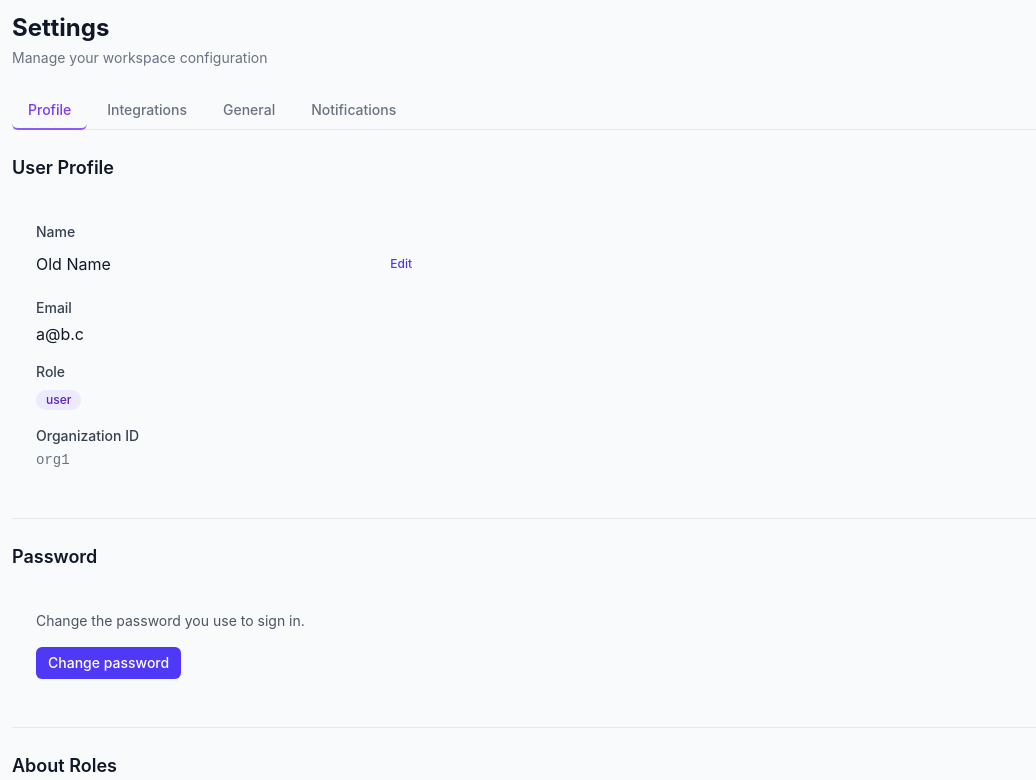
Test: Settings → Profile tab → name editing › surfaces an error and does not claim success when the update fails
Click the button "Edit" at coordinates (401, 264), box x1=382 y1=252 x2=420 y2=276
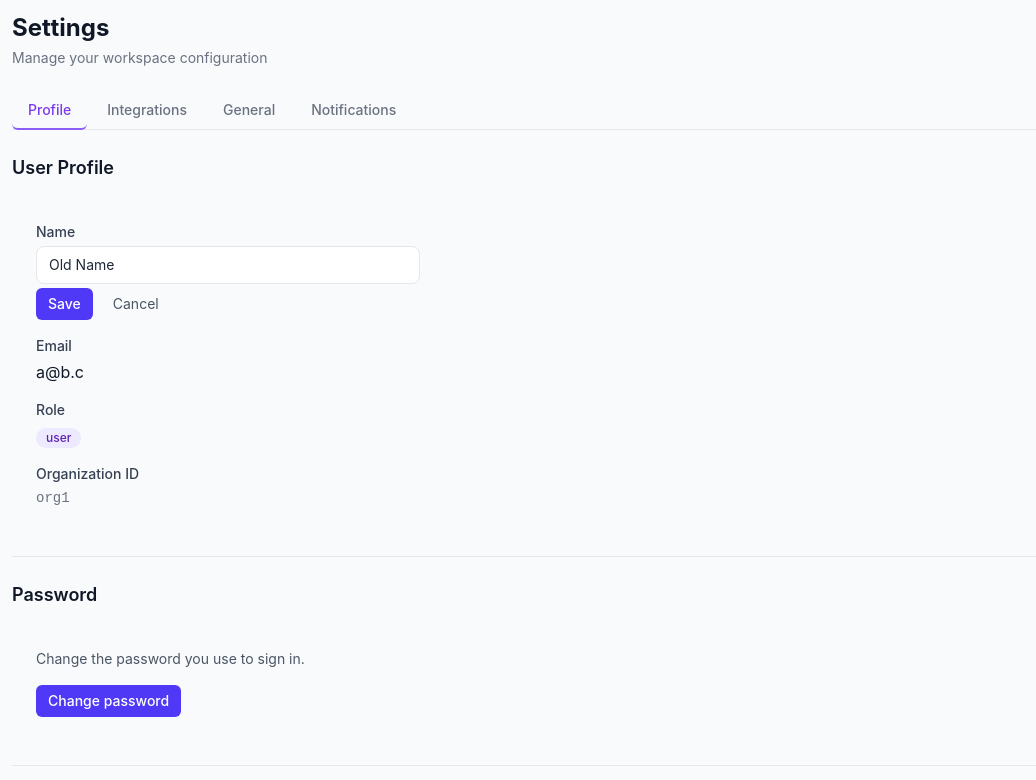
Replace the text in the field labelled "Name" with "New Name" at coordinates (228, 265), box x1=36 y1=246 x2=420 y2=284
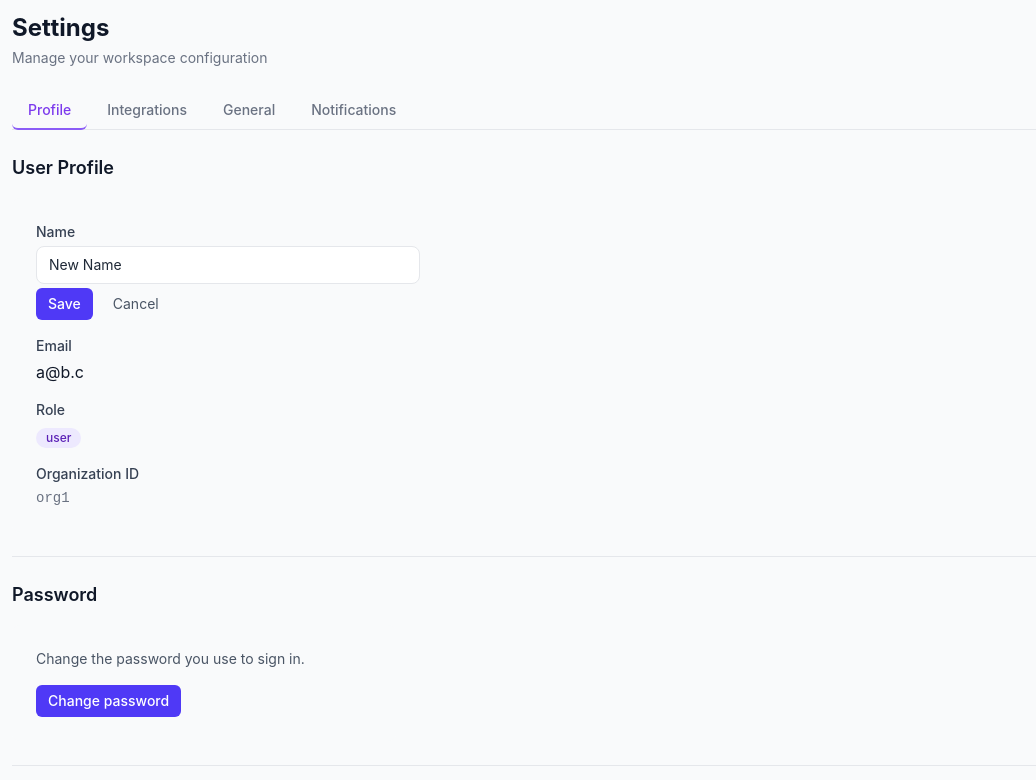
Click the button "Save" at coordinates (64, 304), box x1=36 y1=288 x2=93 y2=320
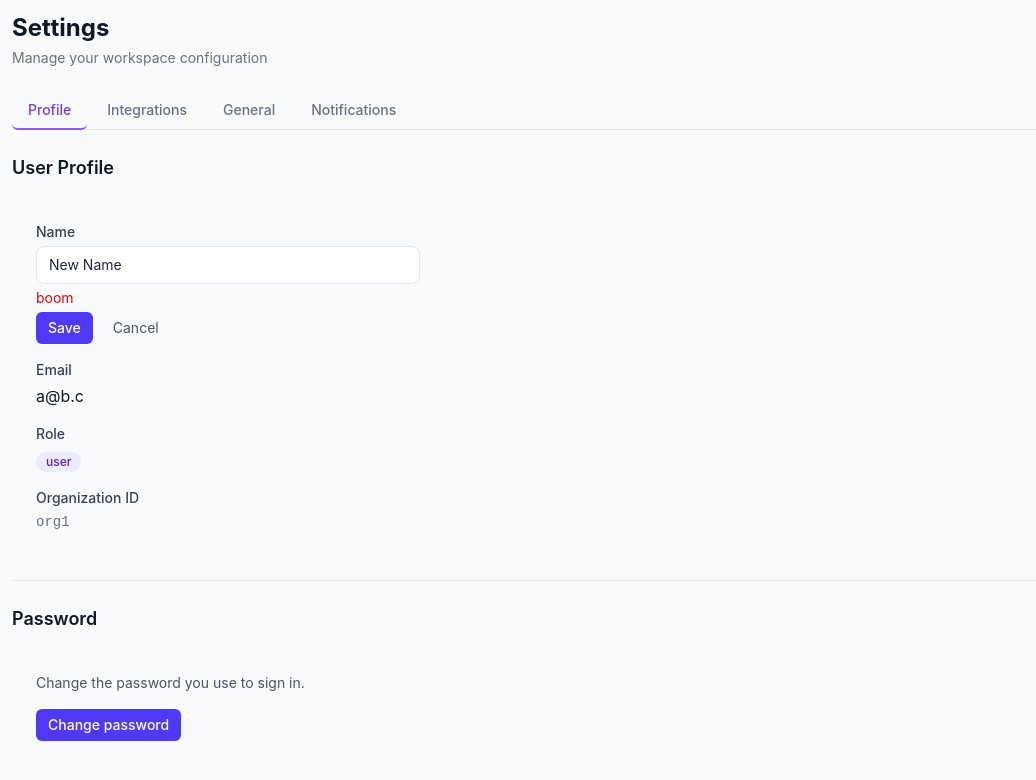
Check: the text "boom" is shown, box x1=36 y1=289 x2=74 y2=306
